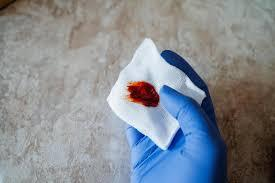Glove: (126, 50, 226, 182)
cotton: (107, 39, 204, 149)
